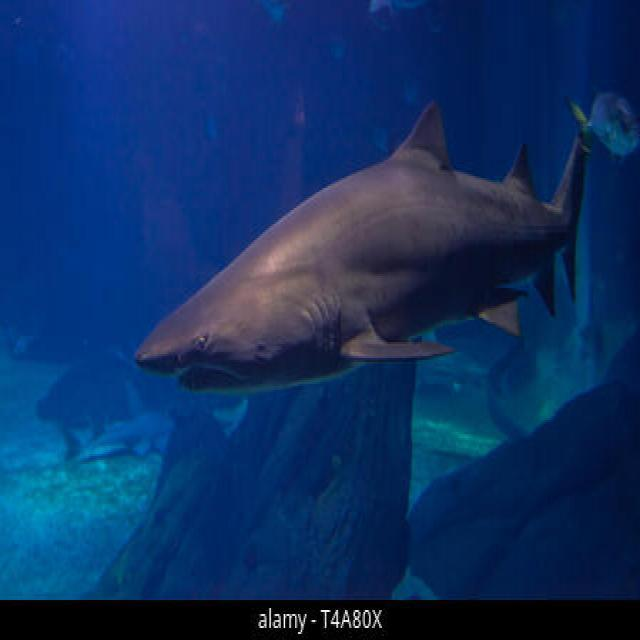Shark: (121, 82, 603, 402)
